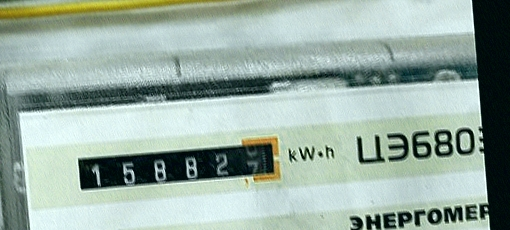1: (90, 160, 104, 186)
2: (213, 150, 231, 176)
5: (121, 158, 137, 185)
7: (245, 156, 261, 174)
8: (152, 155, 169, 182), (183, 153, 200, 179)
screen: (67, 129, 290, 203)
